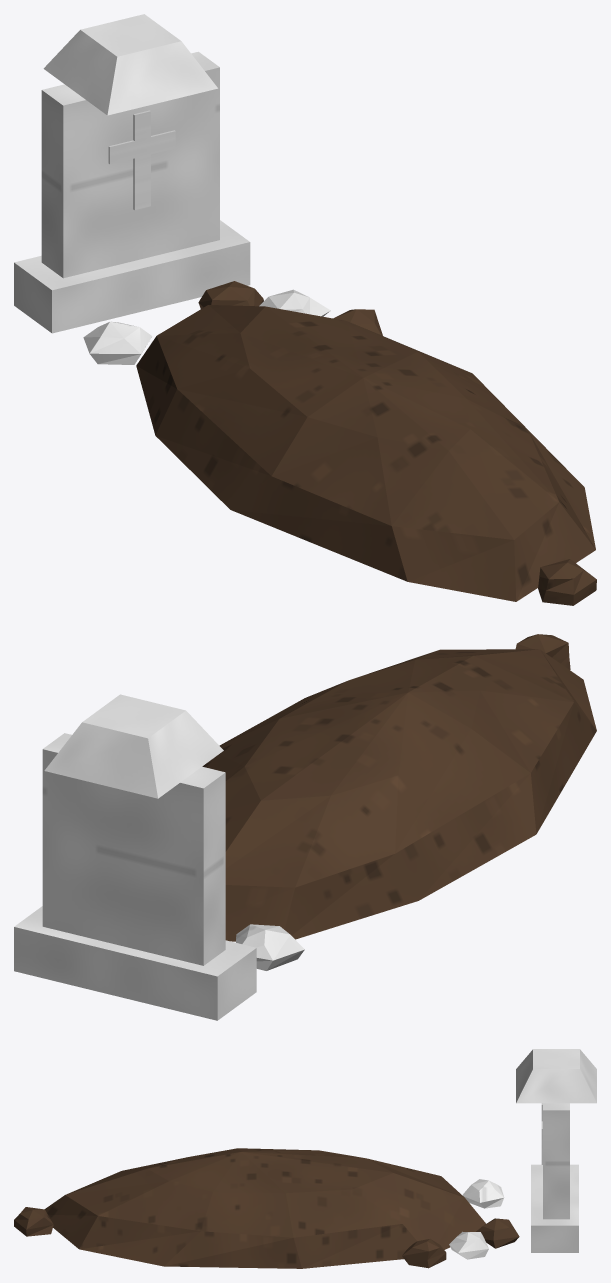
Rendered from grave_full.obj.
The picture shows the model from 3 angles, top to bottom: view 1: azimuth 30°, elevation 25°; view 2: azimuth 150°, elevation 25°; view 3: azimuth 270°, elevation 25°; orthographic projection. The views are drawn at different scales.
Visible parts, largest first — view 1: grave_full; view 2: grave_full; view 3: grave_full.
Part boxes in pixels (<box>): grave_full: <box>14,14,596,605</box>; grave_full: <box>14,634,596,1020</box>; grave_full: <box>14,1049,596,1268</box>.
Size of the model in its own units: 0.7188 by 0.6 by 1.94.
